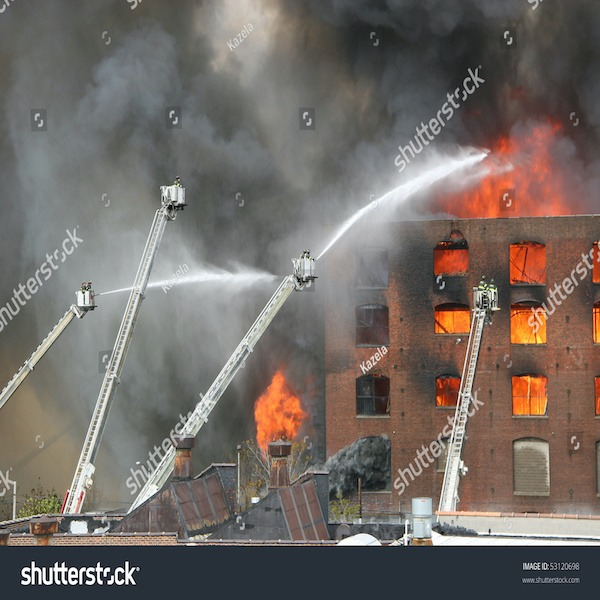fire: (480, 146, 569, 214), (256, 365, 312, 444), (512, 377, 545, 415), (512, 245, 544, 282), (511, 311, 546, 343), (439, 311, 470, 333), (437, 251, 465, 273)
